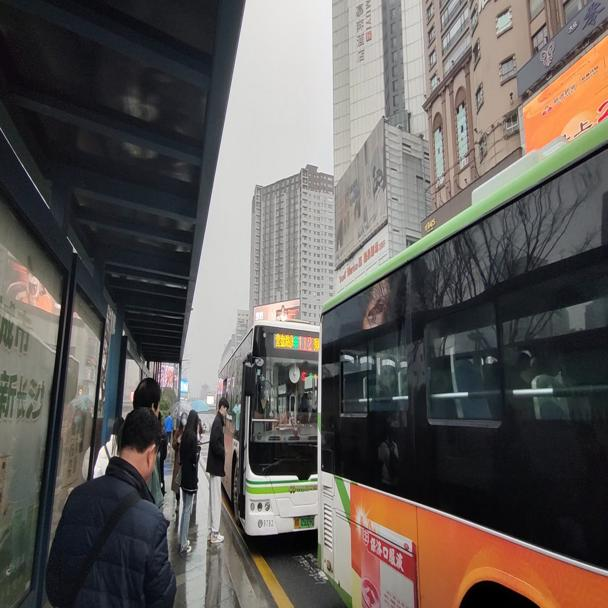bus: (316, 121, 607, 608), (213, 318, 317, 538)
screen: (298, 333, 312, 352)
